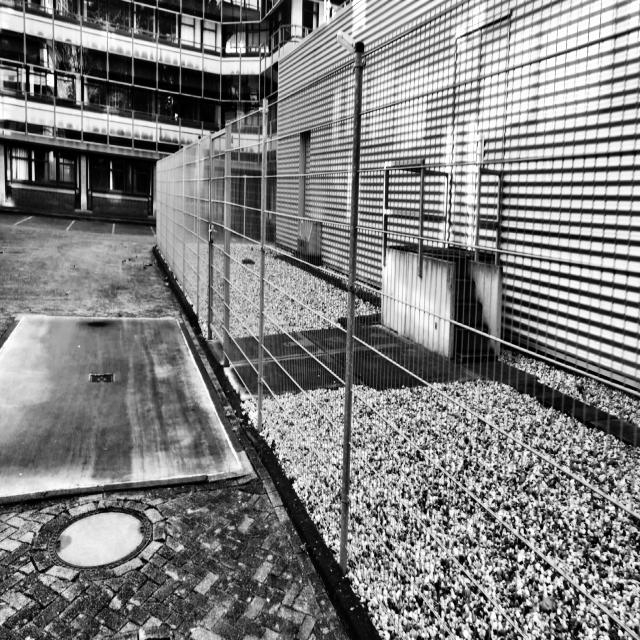fences: (361, 13, 640, 640), (202, 57, 340, 461), (150, 152, 190, 280)
